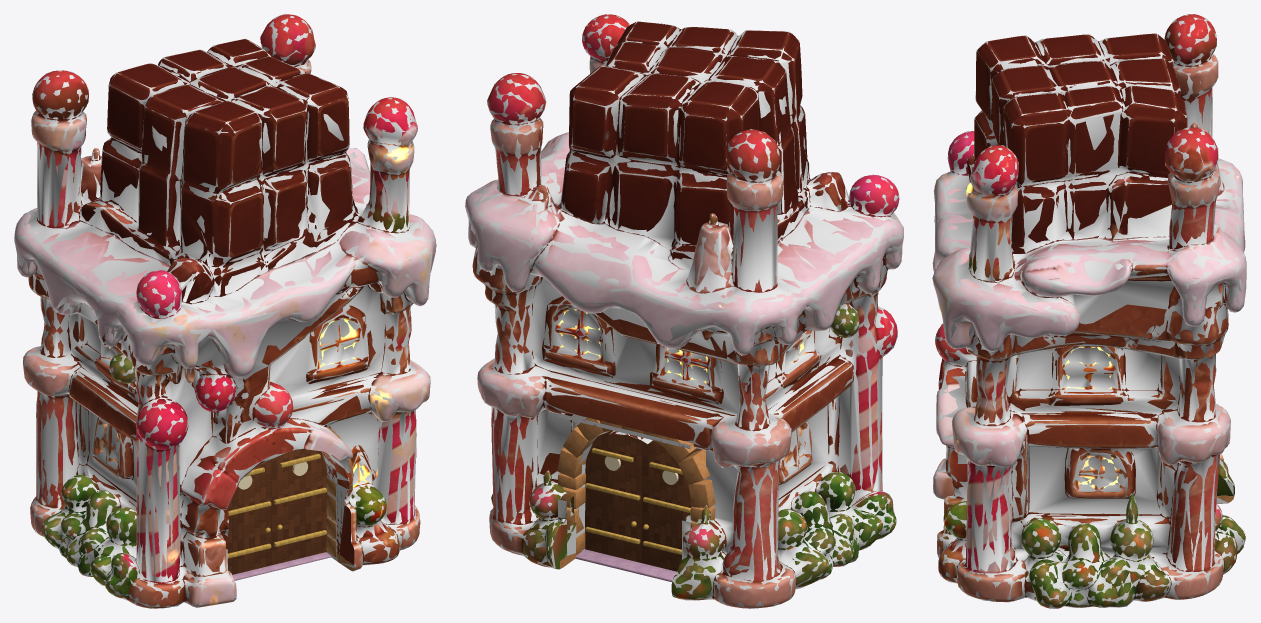
File: GIN_BLD_ChocoCottage.fbx
3 views of the same model, side by side, from view 1: azimuth 30°, elevation 25°; view 2: azimuth 150°, elevation 25°; view 3: azimuth 270°, elevation 25° (orthographic). The views are drawn at different scales.
Visible parts, largest first — view 1: GIN_BLD_ChocoCottage, COL_GIN_BLD_ChocoCottage_Shell, GIN_BLD_ChocoCottage_Door_FR, GIN_BLD_ChocoCottage_Door_FL, GIN_BLD_ChocoCottage_Frame; view 2: GIN_BLD_ChocoCottage, COL_GIN_BLD_ChocoCottage_Shell, GIN_BLD_ChocoCottage_Door_BL, GIN_BLD_ChocoCottage_Frame, GIN_BLD_ChocoCottage_Door_BR; view 3: GIN_BLD_ChocoCottage, COL_GIN_BLD_ChocoCottage_Shell.
Boxes of the visible parts, x1,y1,x2,y2 form: GIN_BLD_ChocoCottage: [14, 14, 436, 608]; COL_GIN_BLD_ChocoCottage_Shell: [14, 14, 436, 608]; GIN_BLD_ChocoCottage_Door_FR: [265, 449, 327, 565]; GIN_BLD_ChocoCottage_Door_FL: [227, 459, 282, 574]; GIN_BLD_ChocoCottage_Frame: [232, 426, 353, 580]; GIN_BLD_ChocoCottage: [465, 14, 903, 608]; COL_GIN_BLD_ChocoCottage_Shell: [465, 14, 903, 608]; GIN_BLD_ChocoCottage_Door_BL: [585, 431, 648, 563]; GIN_BLD_ChocoCottage_Frame: [557, 417, 715, 581]; GIN_BLD_ChocoCottage_Door_BR: [631, 441, 691, 571]; GIN_BLD_ChocoCottage: [933, 14, 1246, 608]; COL_GIN_BLD_ChocoCottage_Shell: [932, 14, 1246, 608].
Bounding box in the file's own units: 19.32 × 26 × 15.87.
